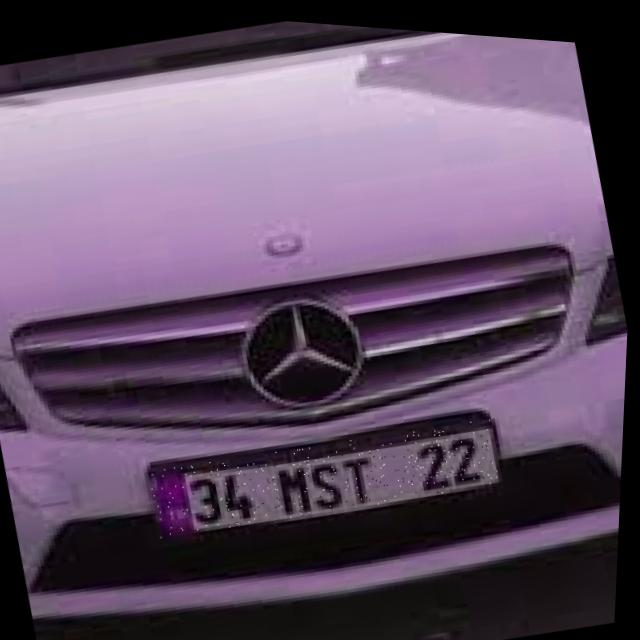license_plate: (149, 390, 509, 555)
